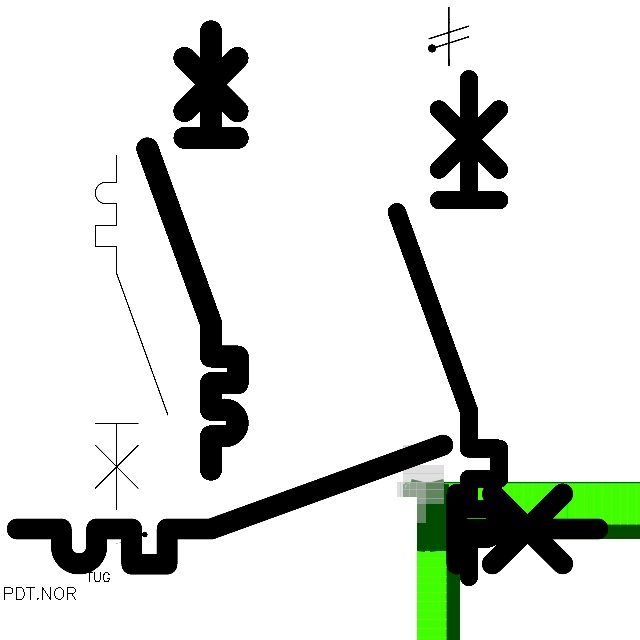interruptor_termomagnetico: (2, 430, 612, 579), (384, 66, 512, 590), (136, 20, 249, 481), (86, 146, 177, 519)
